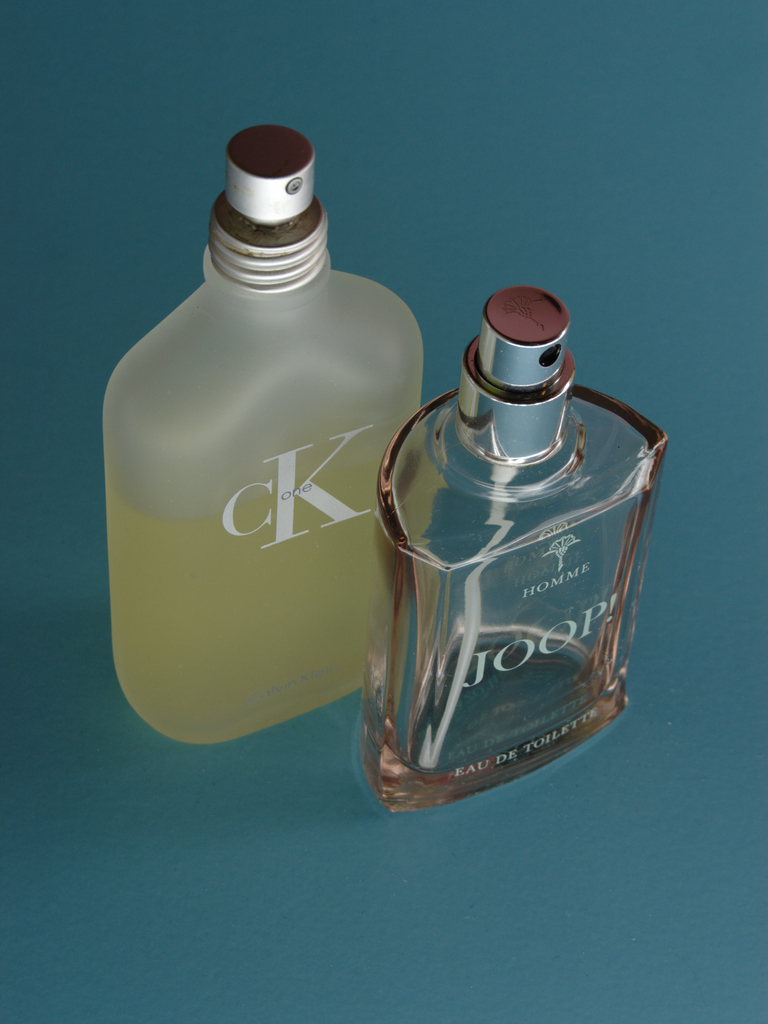can: (101, 123, 424, 745), (362, 285, 667, 812)
